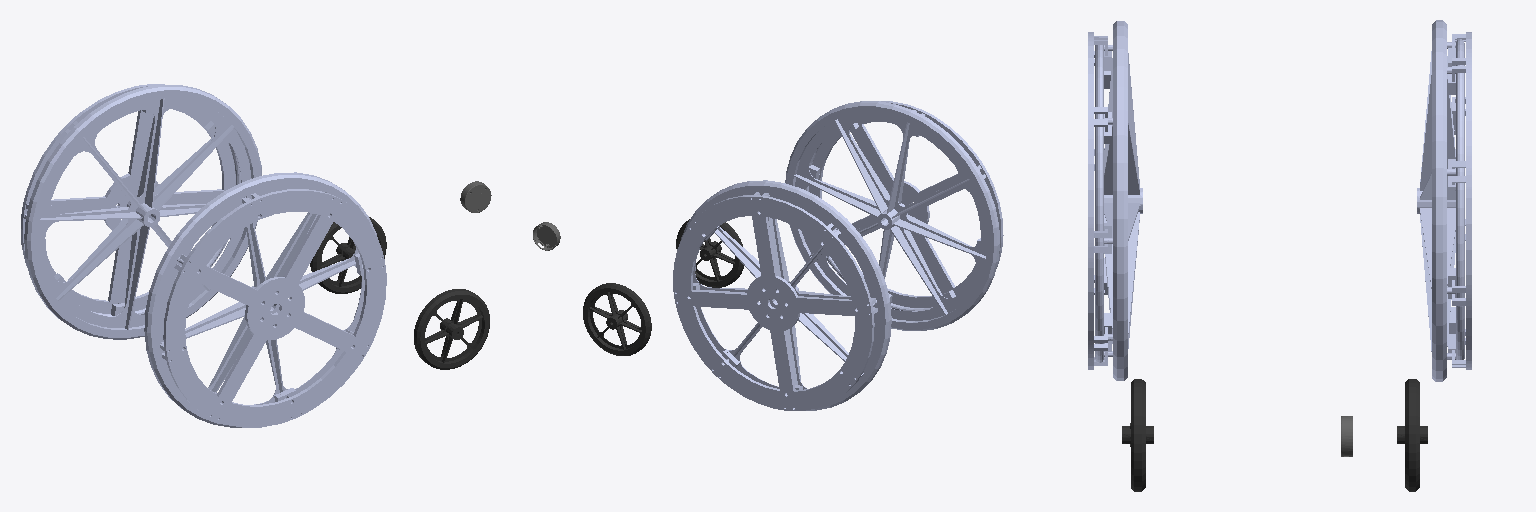
The robot description file, URDF, robot "wc_final_urdf":
<?xml version="1.0" encoding="utf-8"?>

<!-- This URDF was automatically created by SolidWorks to URDF Exporter! Originally created by
[author] ([email redacted]) 
     Commit Version: 1.6.0-4-g7f85cfe  Build Version: 1.6.7995.38578
     For more information, please see http://wiki.ros.org/sw_urdf_exporter -->
<robot
  name="wc_final_urdf">
  <link
    name="base_link">
    <inertial>
      <origin
        xyz="0.07079 -0.005244 0.054253"
        rpy="0 0 0" />
      <mass
        value="9.6537" />
      <inertia
        ixx="0.14653"
        ixy="-0.0001355"
        ixz="0.0055365"
        iyy="0.21499"
        iyz="7.1974E-05"
        izz="0.23484" />
    </inertial>
    <visual>
      <origin
        xyz="0 0 0"
        rpy="0 0 0" />
      <geometry>
        <mesh
          filename="package://project_4/meshes/base_link.STL" />
      </geometry>
      <material
        name="">
        <color
          rgba="0.79216 0.81961 0.93333 1" />
      </material>
    </visual>
    <collision>
      <origin
        xyz="0 0 0"
        rpy="0 0 0" />
      <geometry>
        <mesh
          filename="package://project_4/meshes/base_link.STL" />
      </geometry>
    </collision>
  </link>
  <link
    name="left_wheel_Link">
    <inertial>
      <origin
        xyz="2.8848E-11 -0.083329 -2.3404E-11"
        rpy="0 0 0" />
      <mass
        value="3.3106" />
      <inertia
        ixx="0.09499"
        ixy="-2.1656E-12"
        ixz="6.3223E-13"
        iyy="0.18962"
        iyz="1.759E-12"
        izz="0.09499" />
    </inertial>
    <visual>
      <origin
        xyz="0 0 0"
        rpy="0 0 0" />
      <geometry>
        <mesh
          filename="package://project_4/meshes/left_wheel_Link.STL" />
      </geometry>
      <material
        name="">
        <color
          rgba="0.79216 0.81961 0.93333 1" />
      </material>
    </visual>
    <collision>
      <origin
        xyz="0 0 0"
        rpy="0 0 0" />
      <geometry>
        <mesh
          filename="package://project_4/meshes/left_wheel_Link.STL" />
      </geometry>
    </collision>
  </link>
  <joint
    name="left_wheel_joint"
    type="continuous">
    <origin
      xyz="-0.2 0.375994621202459 -0.0276746212024584"
      rpy="0 0 0" />
    <parent
      link="base_link" />
    <child
      link="left_wheel_Link" />
    <axis
      xyz="0 1 0" />
    <limit
      lower="-500000000"
      upper="500000000"
      effort="20"
      velocity="6.28" />
    <dynamics
      damping="0.1"
      friction="0.1" />
  </joint>
  <link
    name="right_wheel_Link">
    <inertial>
      <origin
        xyz="3.6992E-11 0.084329 -3.3636E-12"
        rpy="0 0 0" />
      <mass
        value="3.3106" />
      <inertia
        ixx="0.09499"
        ixy="2.7774E-12"
        ixz="-2.3886E-13"
        iyy="0.18962"
        iyz="-2.5199E-13"
        izz="0.09499" />
    </inertial>
    <visual>
      <origin
        xyz="0 0 0"
        rpy="0 0 0" />
      <geometry>
        <mesh
          filename="package://project_4/meshes/right_wheel_Link.STL" />
      </geometry>
      <material
        name="">
        <color
          rgba="0.79216 0.81961 0.93333 1" />
      </material>
    </visual>
    <collision>
      <origin
        xyz="0 0 0"
        rpy="0 0 0" />
      <geometry>
        <mesh
          filename="package://project_4/meshes/right_wheel_Link.STL" />
      </geometry>
    </collision>
  </link>
  <joint
    name="right_wheel_joint"
    type="continuous">
    <origin
      xyz="-0.2 -0.375994621202459 -0.0276746212024586"
      rpy="0 0 0" />
    <parent
      link="base_link" />
    <child
      link="right_wheel_Link" />
    <axis
      xyz="0 1 0" />
    <limit
      lower="-500000000"
      upper="500000000"
      effort="20"
      velocity="6.28" />
    <dynamics
      damping="0.1"
      friction="0.1" />
  </joint>
  <link
    name="front_left_Link">
    <inertial>
      <origin
        xyz="-1.32116539930394E-14 3.75199871172072E-13 -7.18869408444789E-15"
        rpy="0 0 0" />
      <mass
        value="0.290953844465425" />
      <inertia
        ixx="0.000880055234393314"
        ixy="-1.00747849687419E-17"
        ixz="-1.89735380184963E-19"
        iyy="0.00171796187878935"
        iyz="2.31529608707372E-18"
        izz="0.000880055234393315" />
    </inertial>
    <visual>
      <origin
        xyz="0 0 0"
        rpy="0 0 0" />
      <geometry>
        <mesh
          filename="package://project_4/meshes/front_left_Link.STL" />
      </geometry>
      <material
        name="">
        <color
          rgba="0.250980392156863 0.250980392156863 0.250980392156863 1" />
      </material>
    </visual>
    <collision>
      <origin
        xyz="0 0 0"
        rpy="0 0 0" />
      <geometry>
        <mesh
          filename="package://project_4/meshes/front_left_Link.STL" />
      </geometry>
    </collision>
  </link>
  <joint
    name="front_left_joint"
    type="continuous">
    <origin
      xyz="0.30297 0.22408 -0.22905"
      rpy="0 0 0" />
    <parent
      link="base_link" />
    <child
      link="front_left_Link" />
    <axis
      xyz="0 -1 0" />
    <limit
      lower="-5000000000"
      upper="50000000000"
      effort="0.1"
      velocity="10" />
  </joint>
  <link
    name="front_right_Link">
    <inertial>
      <origin
        xyz="-1.3101E-14 3.752E-13 -7.0499E-15"
        rpy="0 0 0" />
      <mass
        value="0.29095" />
      <inertia
        ixx="0.00088006"
        ixy="-1.0077E-17"
        ixz="-2.3039E-19"
        iyy="0.001718"
        iyz="2.4029E-18"
        izz="0.00088006" />
    </inertial>
    <visual>
      <origin
        xyz="0 0 0"
        rpy="0 0 0" />
      <geometry>
        <mesh
          filename="package://project_4/meshes/front_right_Link.STL" />
      </geometry>
      <material
        name="">
        <color
          rgba="0.25098 0.25098 0.25098 1" />
      </material>
    </visual>
    <collision>
      <origin
        xyz="0 0 0"
        rpy="0 0 0" />
      <geometry>
        <mesh
          filename="package://project_4/meshes/front_right_Link.STL" />
      </geometry>
    </collision>
  </link>
  <joint
    name="front_right_joint"
    type="continuous">
    <origin
      xyz="0.30297 -0.23893 -0.22905"
      rpy="0 0 0" />
    <parent
      link="base_link" />
    <child
      link="front_right_Link" />
    <axis
      xyz="0 -1 0" />
    <limit
      lower="-500000000"
      upper="5000000000"
      effort="0.1"
      velocity="10" />
  </joint>
  <link
    name="lidar_Link">
    <inertial>
      <origin
        xyz="-0.00012949 0.0051928 0.00060847"
        rpy="0 0 0" />
      <mass
        value="0.0067651" />
      <inertia
        ixx="3.1178E-06"
        ixy="3.8814E-09"
        ixz="-2.6227E-08"
        iyy="5.5977E-06"
        iyz="-2.5338E-08"
        izz="3.0141E-06" />
    </inertial>
    <visual>
      <origin
        xyz="0 0 0"
        rpy="0 0 0" />
      <geometry>
        <mesh
          filename="package://project_4/meshes/lidar_Link.STL" />
      </geometry>
      <material
        name="">
        <color
          rgba="0.43922 0.43922 0.43922 1" />
      </material>
    </visual>
    <collision>
      <origin
        xyz="0 0 0"
        rpy="0 0 0" />
      <geometry>
        <mesh
          filename="package://project_4/meshes/lidar_Link.STL" />
      </geometry>
    </collision>
  </link>
  <joint
    name="lidar_joint"
    type="fixed">
    <origin
      xyz="0.56876 0.10368 -0.10782"
      rpy="0 0 0" />
    <parent
      link="base_link" />
    <child
      link="lidar_Link" />
    <axis
      xyz="0 0 0" />
  </joint>



<gazebo>
        <plugin name="differential_drive_controller" filename="libgazebo_ros_diff_drive.so">
            <!-- Plugin update rate in Hz -->
            <updateRate>10</updateRate>
            <!-- Name of left joint, defaults to `left_joint` -->
            <leftJoint>left_wheel_joint</leftJoint>
            <!-- Name of right joint, defaults to `right_joint` -->
            <rightJoint>right_wheel_joint</rightJoint>
            <!-- The distance from the center of one wheel to the other, in meters, defaults to 0.34
            m -->
            <wheelSeparation>0.73614</wheelSeparation>
            <!-- Diameter of the wheels, in meters, defaults to 0.15 m -->
            <wheelDiameter>0.609</wheelDiameter>
            <!-- Wheel acceleration, in rad/s^2, defaults to 0.0 rad/s^2 -->
            <wheelAcceleration>1.0</wheelAcceleration>
            <!-- Maximum torque which the wheels can produce, in Nm, defaults to 5 Nm -->
            <wheelTorque>20</wheelTorque>
            <!-- Topic to receive geometry_msgs/Twist message commands, defaults to `cmd_vel` -->
            <commandTopic>cmd_vel</commandTopic>
            <!-- Topic to publish nav_msgs/Odometry messages, defaults to `odom` -->
            <odometryTopic>odom</odometryTopic>
            <!-- Odometry frame, defaults to `odom` -->
            <odometryFrame>odom</odometryFrame>
            <!-- Robot frame to calculate odometry from, defaults to `base_footprint` -->
            <robotBaseFrame>base_footprint</robotBaseFrame>
            <!-- Odometry source, 0 for ENCODER, 1 for WORLD, defaults to WORLD -->
            <odometrySource>0</odometrySource>
            <!-- Set to true to publish transforms for the wheel links, defaults to false -->
            <publishWheelTF>false</publishWheelTF>
            <publishTF>true</publishTF>
            <!-- Set to true to publish transforms for the odometry, defaults to true -->
            <publishOdomTF>false</publishOdomTF>
            <!-- Set to true to publish sensor_msgs/JointState on /joint_states for the wheel
       joints, defaults to false -->
            <publishWheelJointState>true</publishWheelJointState>
            <!-- Set to true to swap right and left wheels, defaults to true -->
            <legacyMode>false</legacyMode>
        </plugin>
    </gazebo>


  <!-- hokuyo -->
  <gazebo reference="lidar_Link">
    <sensor type="ray" name="head_lidar_sensor">
      <pose>10 50 0 0 0 0</pose>
      <visualize>true</visualize>
      <update_rate>40</update_rate>
      <ray>
        <scan>
          <horizontal>
            <samples>720</samples>
            <resolution>1</resolution>
            <min_angle>-1.570796</min_angle>
            <max_angle>1.570796</max_angle>
          </horizontal>
        </scan>
        <range>
          <min>0.10</min>
          <max>30.0</max>
          <resolution>0.01</resolution>
        </range>
        <noise>
          <type>gaussian</type>
          <!-- Noise parameters based on published spec for Hokuyo laser
achieving "+-30mm" accuracy at range < 10m. A mean of 0.0m and
stddev of 0.01m will put 99.7% of samples within 0.03m of the true
reading. -->
          <mean>0.0</mean>
          <stddev>0.01</stddev>
        </noise>
      </ray>
      <plugin name="gazebo_ros_head_hokuyo_controller" filename="libgazebo_ros_laser.so">
        <topicName>/laser/scan</topicName>
        <frameName>lidar_Link</frameName>
      </plugin>
    </sensor>
  </gazebo>
</robot>

--- Facts derived from the render (not from the file) ---
The picture shows the robot from 3 angles, left to right: view 1: azimuth 30°, elevation 25°; view 2: azimuth 150°, elevation 25°; view 3: azimuth 270°, elevation 25°; orthographic projection.
Model wc_final_urdf with 6 links and 5 joints (4 continuous, 1 fixed), rooted at base_link, posed every joint at zero.
Links seen in each view (by area): view 1: right_wheel_Link, left_wheel_Link, front_right_Link, front_left_Link, lidar_Link; view 2: left_wheel_Link, right_wheel_Link, front_left_Link, front_right_Link, lidar_Link; view 3: left_wheel_Link, right_wheel_Link, front_right_Link, front_left_Link.
Link boxes in pixels (x1,y1,x2,y2): right_wheel_Link: (144, 172, 386, 427); left_wheel_Link: (21, 84, 261, 339); front_right_Link: (414, 289, 489, 369); front_left_Link: (310, 217, 386, 293); lidar_Link: (460, 181, 491, 212); left_wheel_Link: (673, 180, 891, 410); right_wheel_Link: (785, 101, 1003, 330); front_left_Link: (583, 283, 651, 355); front_right_Link: (676, 219, 743, 287); lidar_Link: (533, 222, 560, 250); left_wheel_Link: (1417, 20, 1471, 381); right_wheel_Link: (1088, 21, 1142, 380); front_right_Link: (1122, 379, 1153, 491); front_left_Link: (1397, 379, 1427, 491).
Bounding box of the posed robot: 1.11 × 0.649 × 0.6096 m (x, y, z).
5 mesh visuals loaded from 6 distinct referenced files (5 binary STL); not drawn: 1 (reference not matched to a file when rendering).
